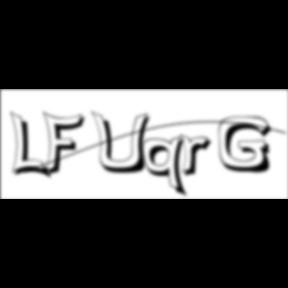F: (42, 110, 90, 178)
G: (218, 116, 278, 176)
L: (10, 110, 54, 182)
U: (92, 110, 156, 176)
q: (143, 135, 192, 200)
r: (180, 134, 218, 180)
